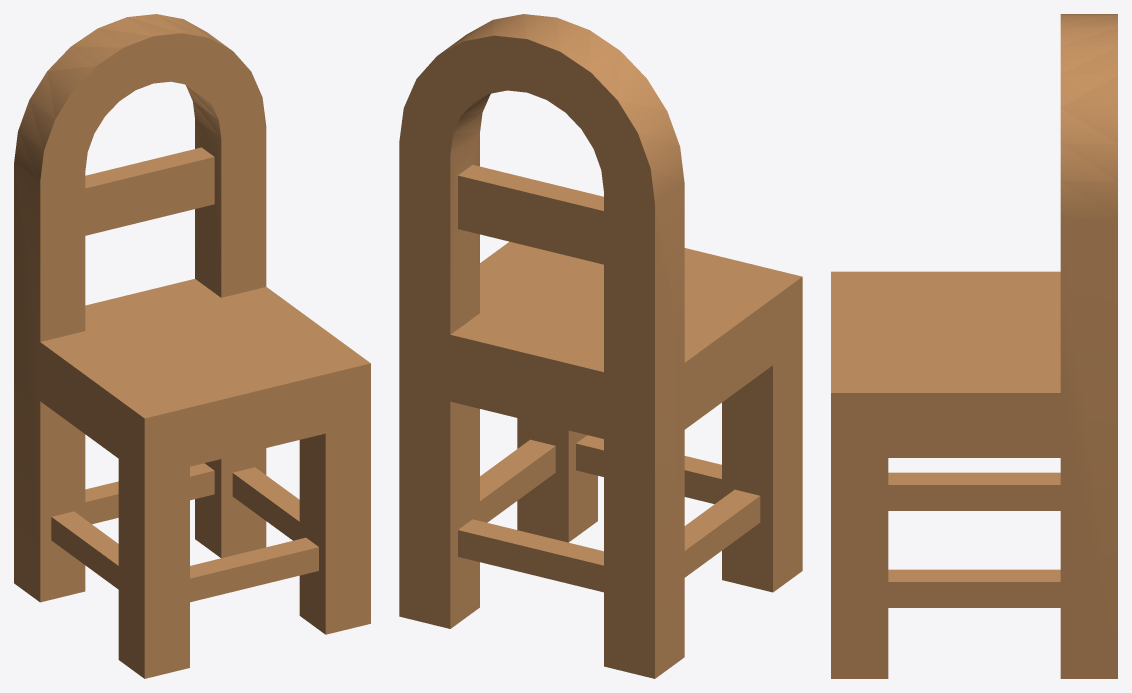
File: kitChairRounded.glb
3 renders of one model, left to right at view 1: azimuth 30°, elevation 25°; view 2: azimuth 150°, elevation 25°; view 3: azimuth 270°, elevation 25°, orthographic. The views are drawn at different scales.
Parts seen in each view (by area): view 1: kitChairRounded_wood; view 2: kitChairRounded_wood; view 3: kitChairRounded_wood.
Part boxes in pixels (box(x1,y1,x2,y2)): kitChairRounded_wood: box(14, 14, 370, 678); kitChairRounded_wood: box(399, 14, 802, 678); kitChairRounded_wood: box(831, 14, 1117, 678).
Size of the model in its own units: 0.4 by 0.91 by 0.4.
